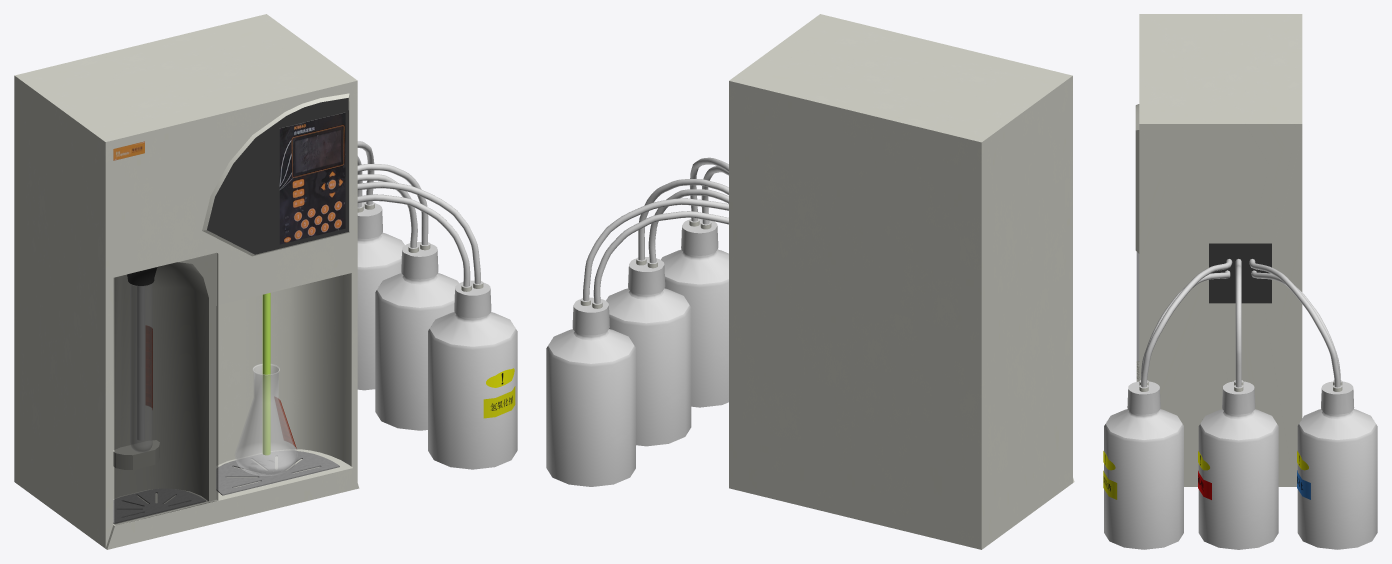
File: SM_自动凯氏定氮仪.fbx
The picture shows the model from 3 angles, left to right: view 1: azimuth 30°, elevation 25°; view 2: azimuth 150°, elevation 25°; view 3: azimuth 270°, elevation 25°; orthographic projection. The views are drawn at different scales.
Parts seen in each view (by area): view 1: SM_自动凯氏定氮仪; view 2: SM_自动凯氏定氮仪; view 3: SM_自动凯氏定氮仪.
Boxes of the visible parts, left/top/right/bottom form: SM_自动凯氏定氮仪: left=14, top=14, right=517, bottom=549; SM_自动凯氏定氮仪: left=546, top=14, right=1074, bottom=549; SM_自动凯氏定氮仪: left=1103, top=14, right=1377, bottom=549.
Bounding box in the file's own units: 0.6932 × 0.6588 × 0.4506.
